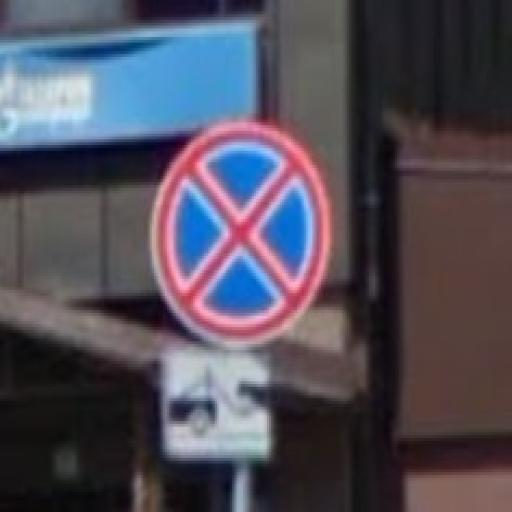traffic_sign: (151, 118, 333, 351)
